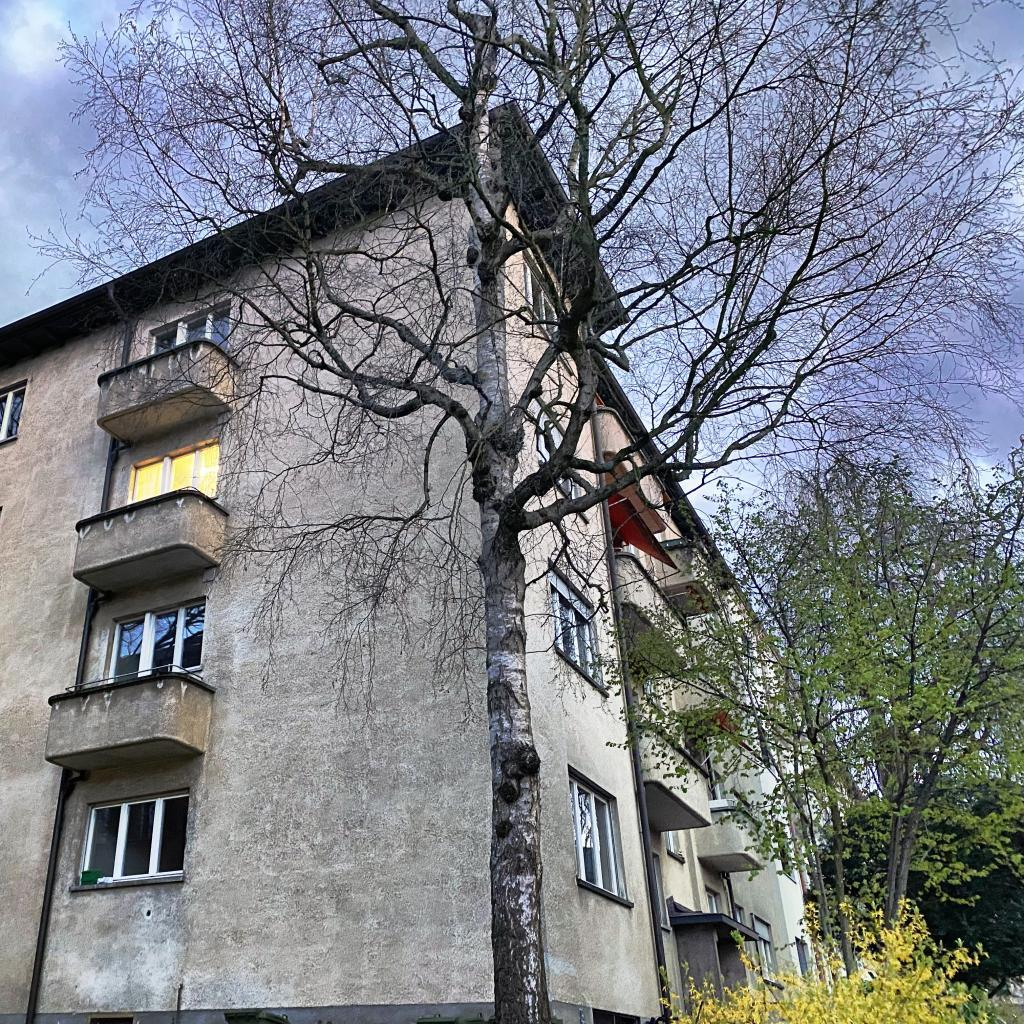balcony-fence: (62, 662, 204, 693)
facade: (0, 98, 884, 1024)
non-building-infrastructure: (223, 1009, 291, 1024), (416, 1012, 497, 1023)
vegetation: (16, 0, 1024, 1024)
window: (77, 792, 190, 885), (107, 600, 205, 683), (548, 566, 603, 688), (569, 772, 622, 898), (131, 443, 220, 503), (539, 410, 582, 509), (152, 305, 230, 354), (524, 256, 561, 352), (751, 914, 781, 985), (0, 383, 26, 443), (773, 827, 793, 878), (795, 938, 815, 985), (705, 885, 722, 913), (729, 900, 745, 924)
